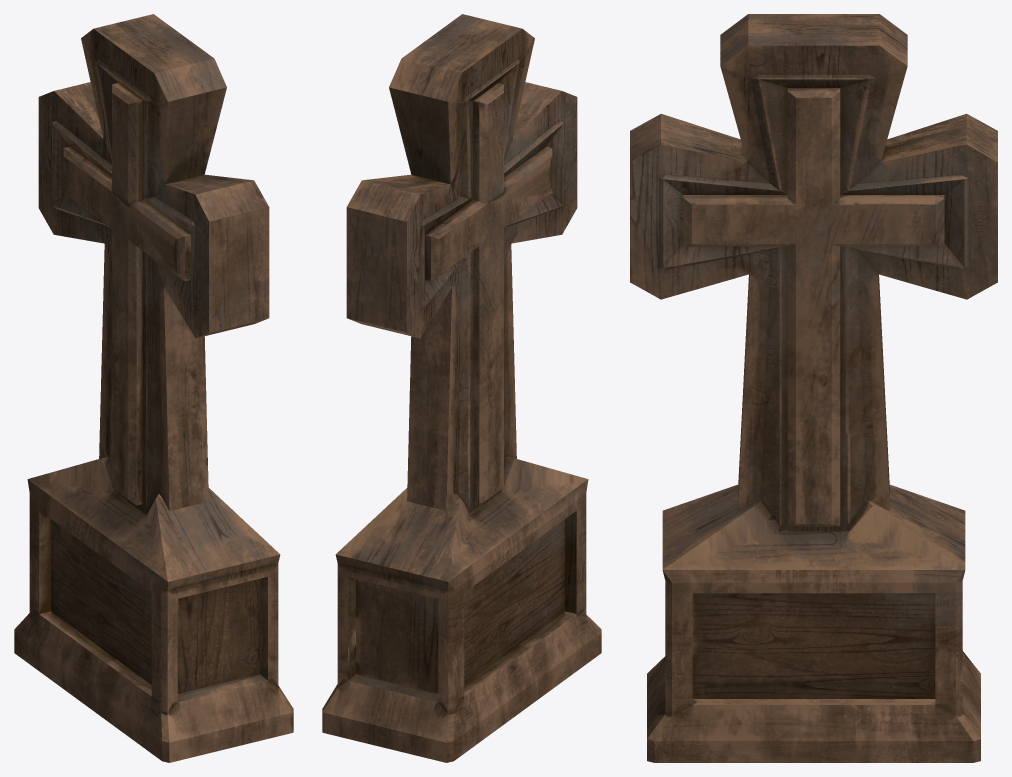
File: gravestone _1.fbx
The picture shows the model from 3 angles, left to right: view 1: azimuth 30°, elevation 25°; view 2: azimuth 150°, elevation 25°; view 3: azimuth 270°, elevation 25°; orthographic projection. The views are drawn at different scales.
Parts seen in each view (by area): view 1: Cube.002; view 2: Cube.002; view 3: Cube.002.
Boxes of the visible parts, <box> form: Cube.002: <box>14,14,293,762</box>; Cube.002: <box>322,14,601,762</box>; Cube.002: <box>630,14,997,762</box>.
Size of the model in its own units: 48.03 by 226 by 108.
Materials: 1 (1 with a texture image).
